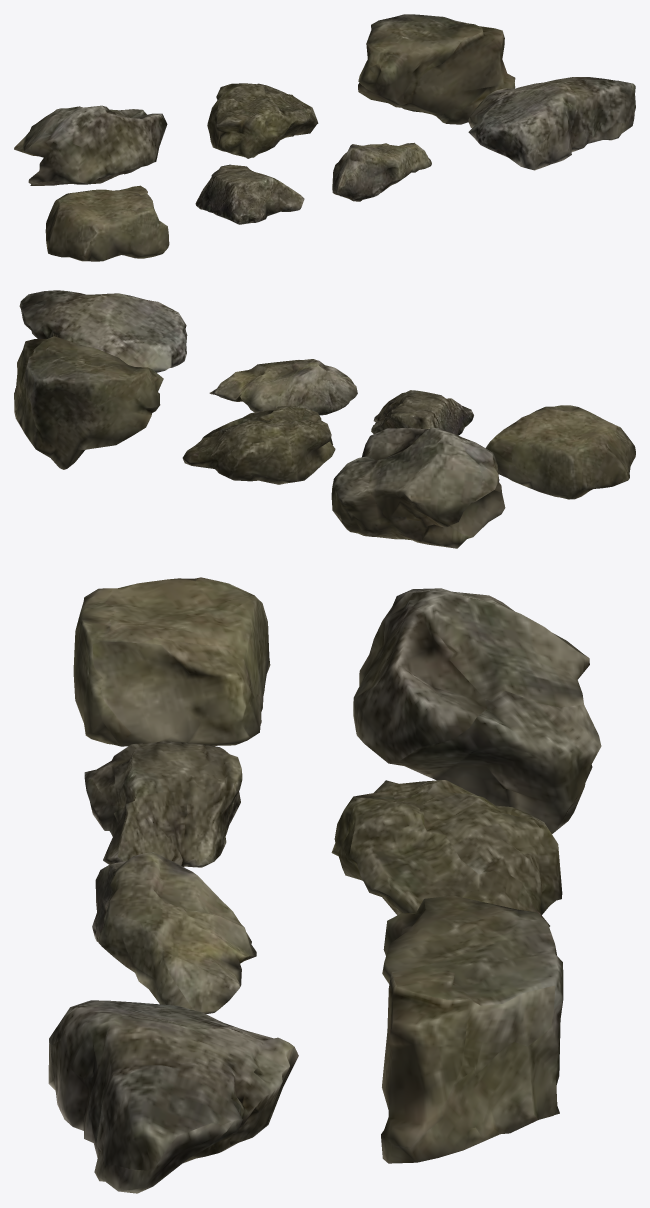
Rendered from rock_moss_set_02.glb.
3 views of the same model, one above another, from view 1: azimuth 30°, elevation 25°; view 2: azimuth 150°, elevation 25°; view 3: azimuth 270°, elevation 25° (orthographic). The views are drawn at different scales.
Visible parts, largest first — view 1: rock_moss_set_02_rock13, rock_moss_set_02_rock10, rock_moss_set_02_rock11, rock_moss_set_02_rock07, rock_moss_set_02_rock12, rock_moss_set_02_rock08, rock_moss_set_02_rock09; view 2: rock_moss_set_02_rock11, rock_moss_set_02_rock13, rock_moss_set_02_rock07, rock_moss_set_02_rock10, rock_moss_set_02_rock12, rock_moss_set_02_rock09, rock_moss_set_02_rock08; view 3: rock_moss_set_02_rock13, rock_moss_set_02_rock11, rock_moss_set_02_rock10, rock_moss_set_02_rock07, rock_moss_set_02_rock12, rock_moss_set_02_rock09, rock_moss_set_02_rock08.
Part boxes in pixels (x1,y1,x2,y2): rock_moss_set_02_rock13: [358, 14, 515, 124]; rock_moss_set_02_rock10: [468, 77, 635, 170]; rock_moss_set_02_rock11: [14, 105, 167, 185]; rock_moss_set_02_rock07: [45, 185, 169, 261]; rock_moss_set_02_rock12: [207, 83, 318, 158]; rock_moss_set_02_rock08: [195, 164, 304, 224]; rock_moss_set_02_rock09: [332, 142, 431, 201]; rock_moss_set_02_rock11: [331, 428, 505, 548]; rock_moss_set_02_rock13: [14, 336, 163, 469]; rock_moss_set_02_rock07: [486, 405, 635, 499]; rock_moss_set_02_rock10: [19, 290, 187, 372]; rock_moss_set_02_rock12: [182, 406, 335, 484]; rock_moss_set_02_rock09: [209, 359, 357, 415]; rock_moss_set_02_rock08: [371, 390, 473, 435]; rock_moss_set_02_rock13: [381, 895, 563, 1163]; rock_moss_set_02_rock11: [353, 588, 601, 833]; rock_moss_set_02_rock10: [48, 1000, 298, 1193]; rock_moss_set_02_rock07: [73, 577, 270, 746]; rock_moss_set_02_rock12: [331, 780, 562, 926]; rock_moss_set_02_rock09: [92, 852, 256, 1013]; rock_moss_set_02_rock08: [84, 741, 242, 867].
Size of the model in its own units: 8.28 by 1.35 by 3.4.
Materials: 1 (1 with a texture image).
